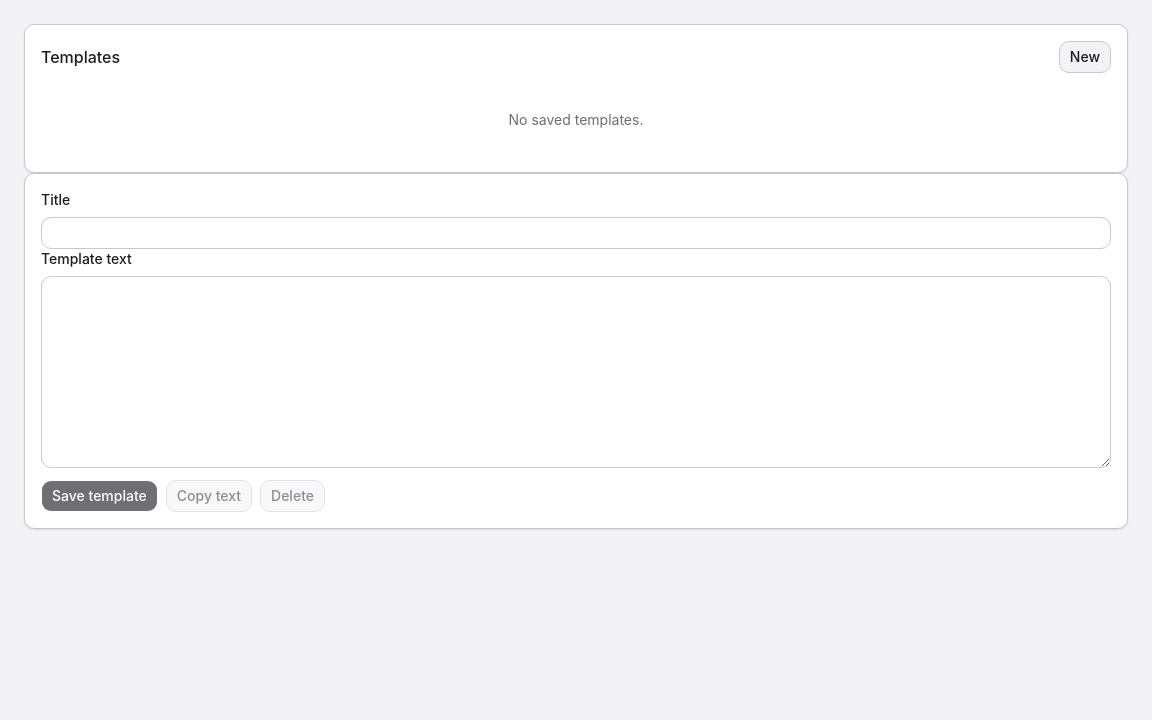
Test: PhrasePage › saves a template and refreshes the list
The width and height of the screenshot is (1152, 720).
In the field labelled "Title": (576, 233) [41,217,1111,249], type "Greeting"
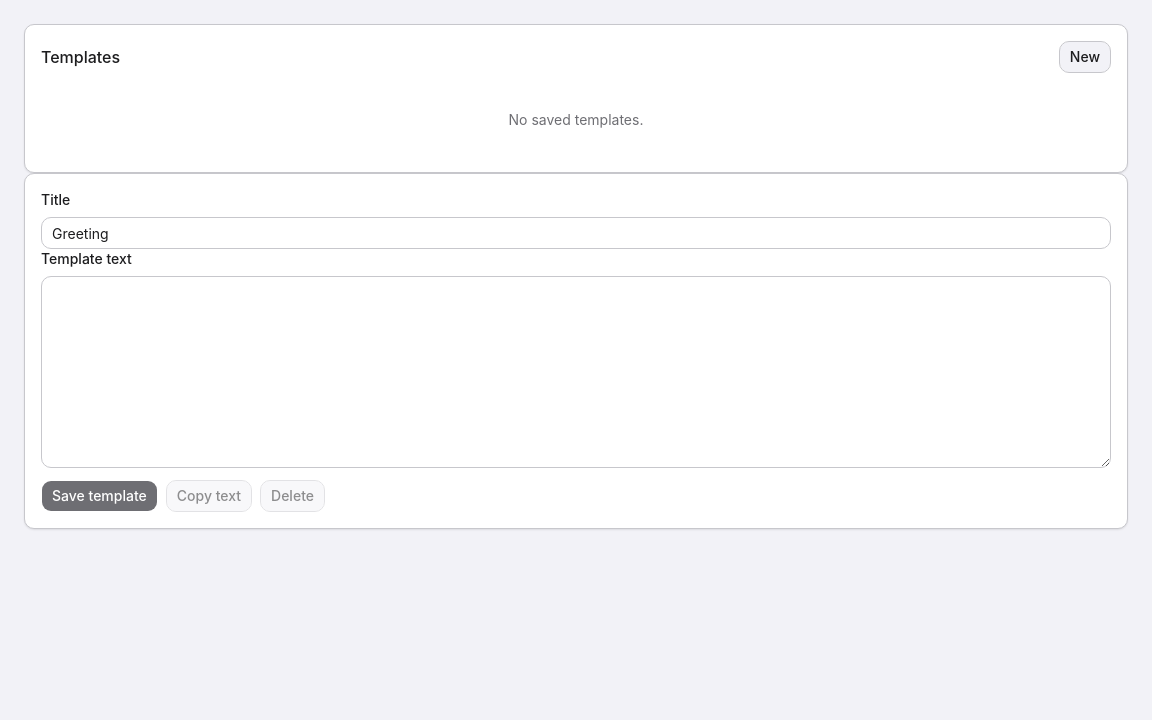
In the text box labelled "Template text": (576, 372) [41,276,1111,468], type "Hello there"
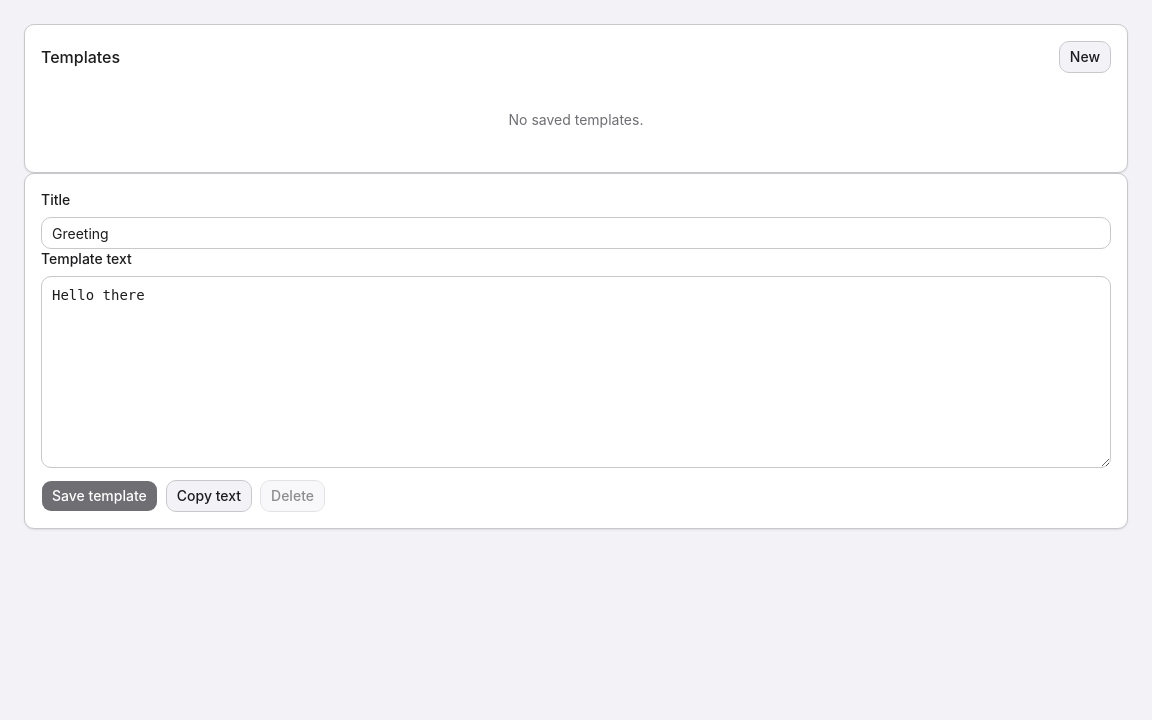
Click the button "Save template": (99, 496) [41,480,158,512]
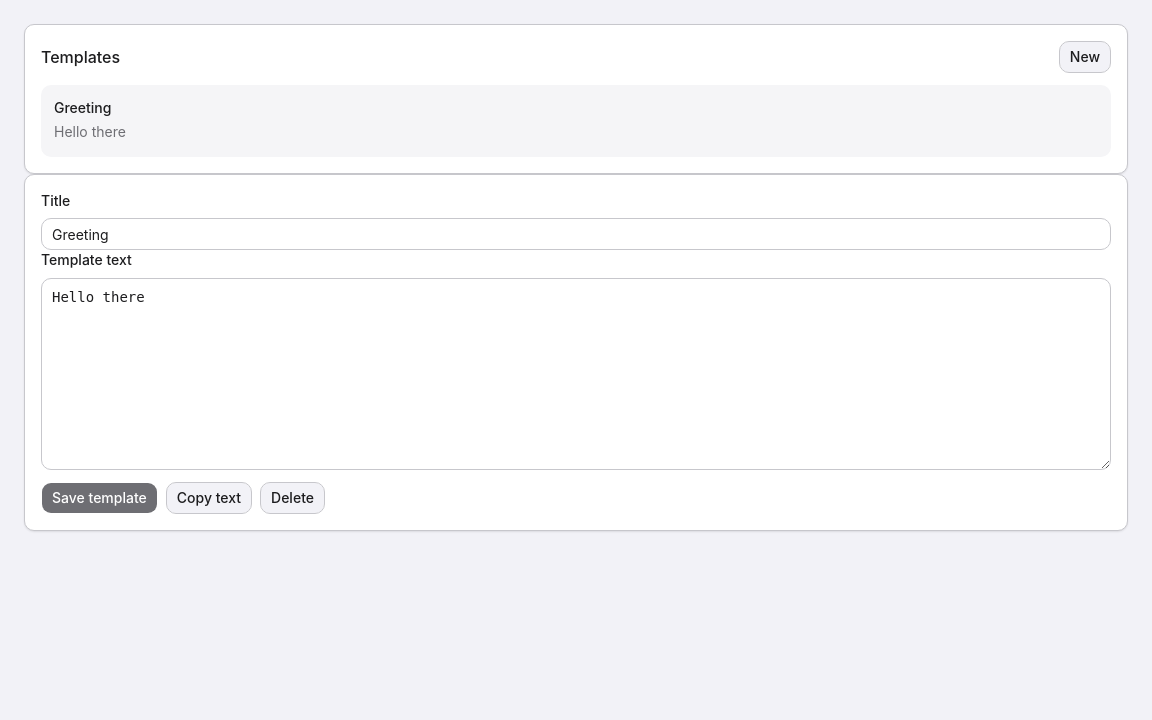
Check: the text "Greeting" is shown, box [54,99,112,116]
